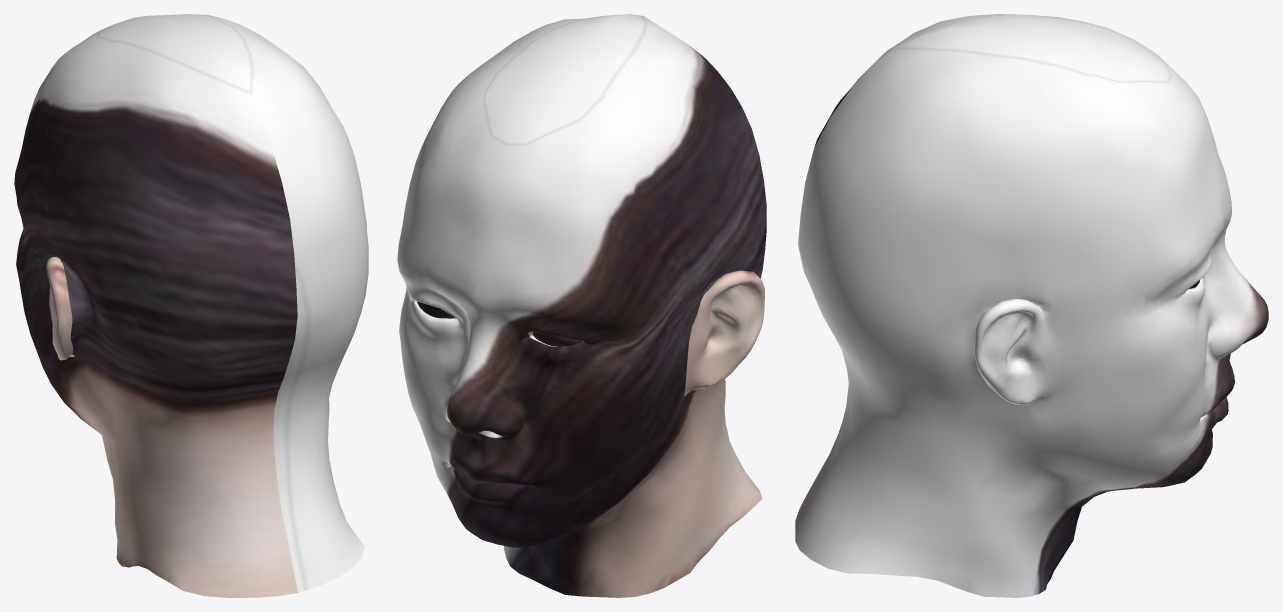
The model's file is Face_Fat_test_04.fbx.
3 views of the same model, side by side, from view 1: azimuth 30°, elevation 25°; view 2: azimuth 150°, elevation 25°; view 3: azimuth 270°, elevation 25° (orthographic). The views are drawn at different scales.
Parts seen in each view (by area): view 1: Face_fatBS2; view 2: Face_fatBS2; view 3: Face_fatBS2.
Part boxes in pixels (bbox=[...]): Face_fatBS2: bbox=[14, 14, 368, 597]; Face_fatBS2: bbox=[397, 14, 766, 597]; Face_fatBS2: bbox=[795, 14, 1268, 597].
Size of the model in its own units: 16.85 by 26.77 by 21.12.
